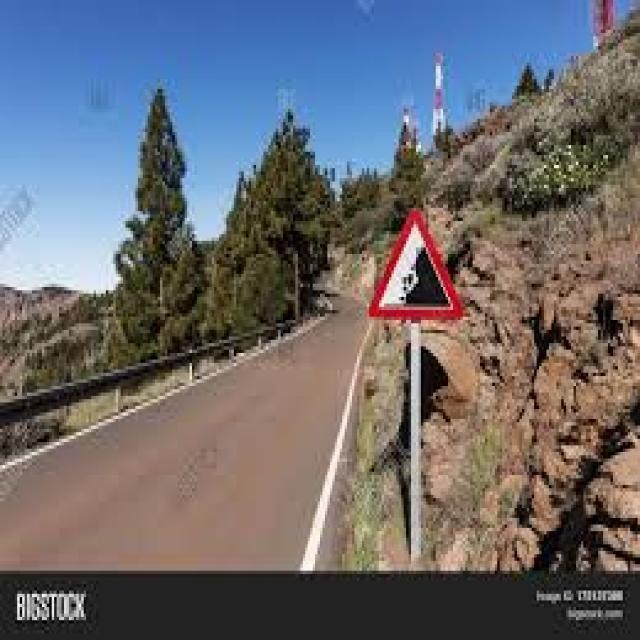falling rocks: (360, 197, 467, 330)
